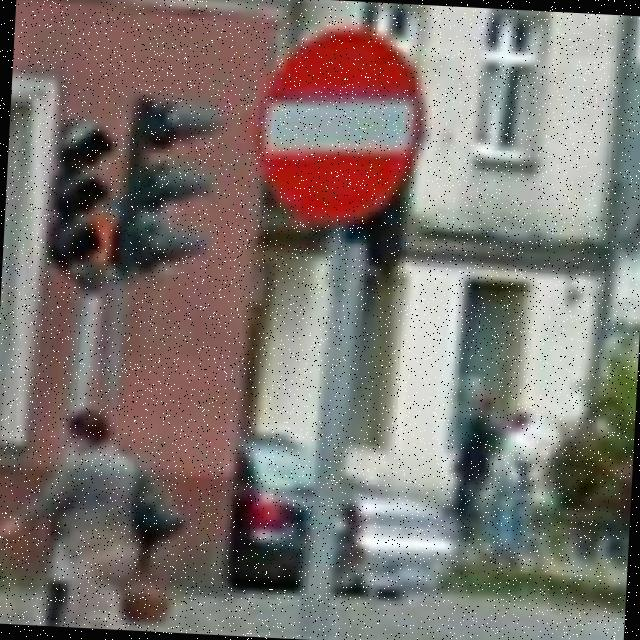Zakaz wjazdu: (248, 22, 426, 230)
